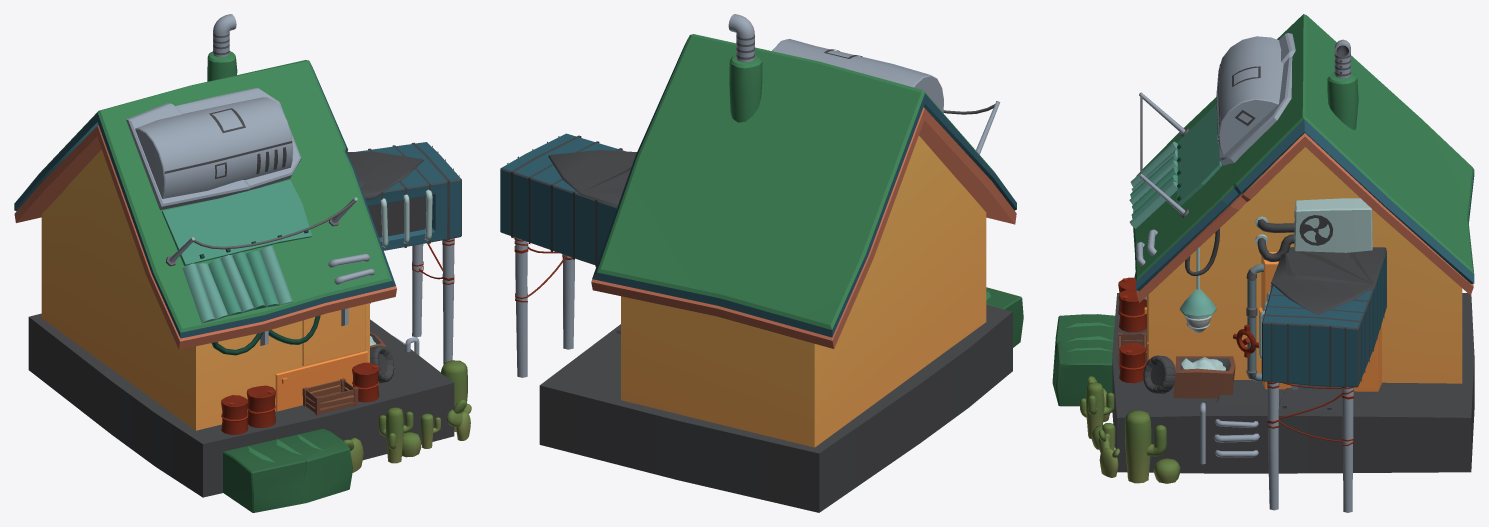
Rendered from BO_House_04.fbx.
The picture shows the model from 3 angles, left to right: view 1: azimuth 30°, elevation 25°; view 2: azimuth 150°, elevation 25°; view 3: azimuth 270°, elevation 25°; orthographic projection. The views are drawn at different scales.
Parts seen in each view (by area): view 1: BO_House_04; view 2: BO_House_04; view 3: BO_House_04.
Part boxes in pixels (bbox=[...]): BO_House_04: bbox=[14, 14, 471, 512]; BO_House_04: bbox=[500, 14, 1023, 512]; BO_House_04: bbox=[1052, 14, 1474, 512].
Bounding box in the file's own units: 601 × 589 × 600.
